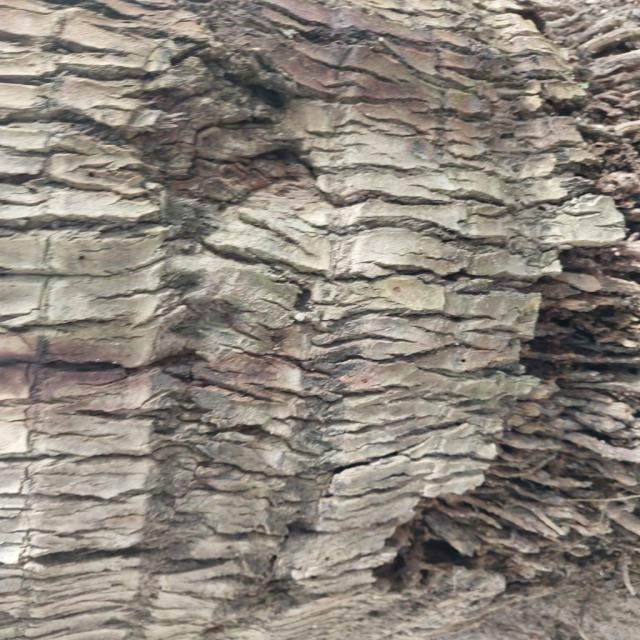stembleeding: (106, 41, 546, 142), (0, 323, 199, 407)
